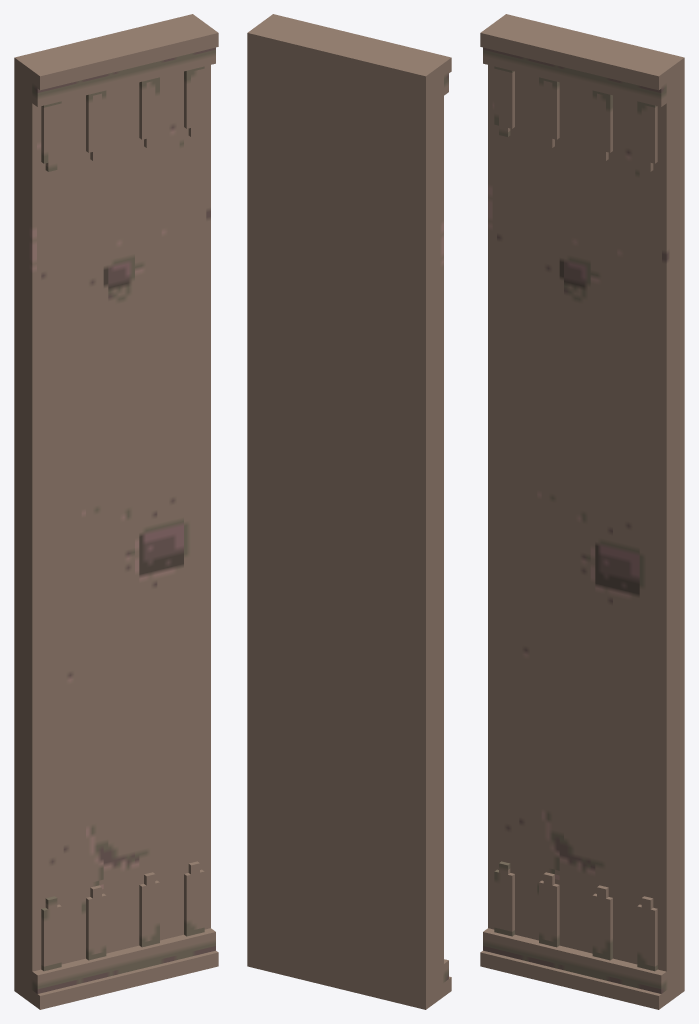
Rendered from Wall_Medium-3.fbx.
3 renders of one model, left to right at view 1: azimuth 30°, elevation 25°; view 2: azimuth 150°, elevation 25°; view 3: azimuth 330°, elevation 25°, orthographic.
Visible parts, largest first — view 1: Wall_Medium-3; view 2: Wall_Medium-3; view 3: Wall_Medium-3.
Boxes of the visible parts, x1,y1,x2,y2 form: Wall_Medium-3: [14, 14, 218, 1009]; Wall_Medium-3: [247, 14, 451, 1009]; Wall_Medium-3: [480, 14, 684, 1009].
Size of the model in its own units: 200 by 1000 by 50.
